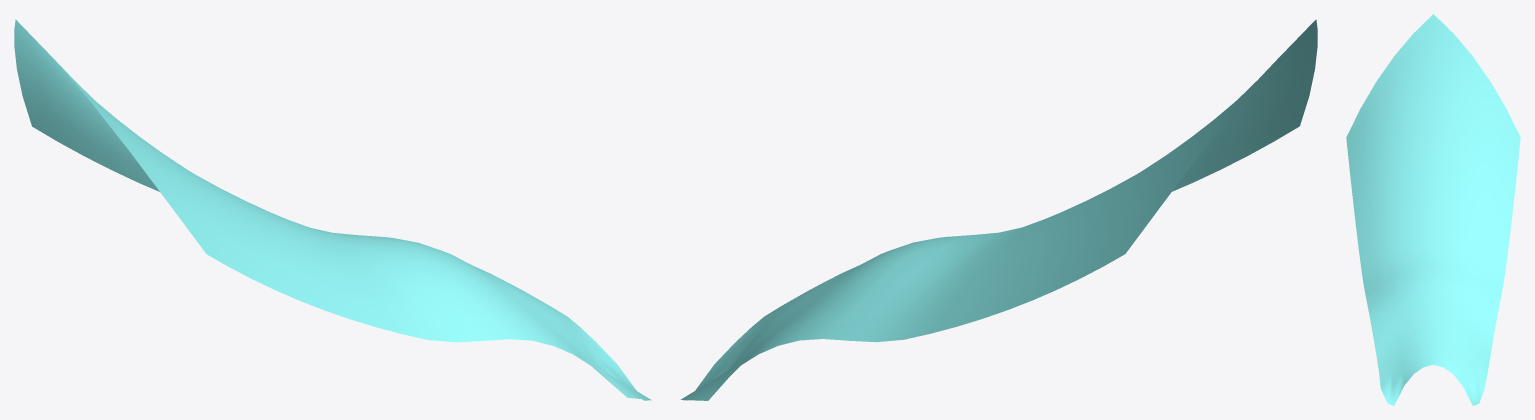
File: Unit_Cloth_Back.FBX
3 views of the same model, side by side, from view 1: azimuth 30°, elevation 25°; view 2: azimuth 150°, elevation 25°; view 3: azimuth 270°, elevation 25° (orthographic). The views are drawn at different scales.
Parts seen in each view (by area): view 1: Unit_Cloth_Back; view 2: Unit_Cloth_Back; view 3: Unit_Cloth_Back.
Part boxes in pixels (box(x1,y1,x2,y2)): Unit_Cloth_Back: box(14, 19, 651, 400); Unit_Cloth_Back: box(680, 19, 1317, 400); Unit_Cloth_Back: box(1346, 14, 1520, 405).
Size of the model in its own units: 57.18 by 45.96 by 29.27.
